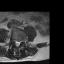CCS_normal: (16, 38, 18, 48)
LFS_stenosis: (20, 37, 22, 44)
LLS_normal: (18, 38, 20, 47)
RFS_normal: (12, 37, 14, 44)
RLS_normal: (14, 38, 16, 47)
